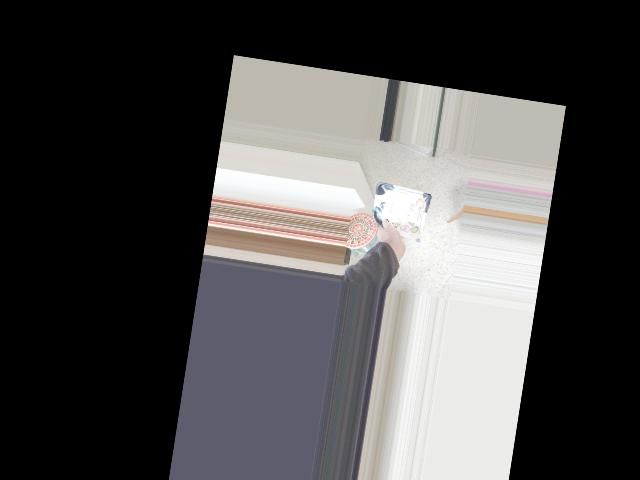cheese: (365, 192, 429, 261)
